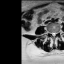CCS_normal: (52, 29, 54, 39)
LFS_stenosis: (56, 28, 58, 35)
LLS_normal: (54, 29, 56, 37)
RFS_normal: (49, 29, 51, 35)
RLS_normal: (51, 30, 52, 37)
